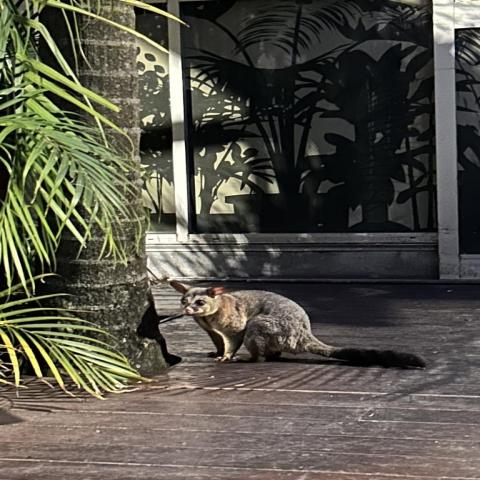small_animal: (168, 279, 428, 371)
